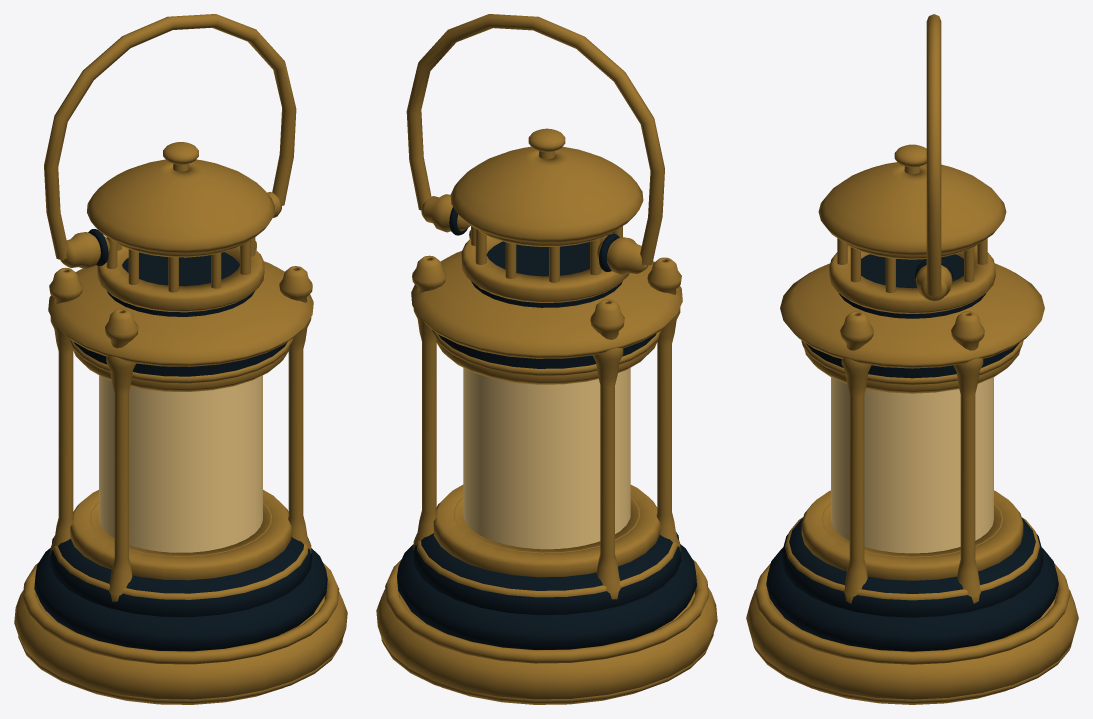
3 views of the same model, side by side, from view 1: azimuth 30°, elevation 25°; view 2: azimuth 150°, elevation 25°; view 3: azimuth 270°, elevation 25° (orthographic). The views are drawn at different scales.
Visible parts, largest first — view 1: chapter-1; view 2: chapter-1; view 3: chapter-1.
Part boxes in pixels (x1,y1,x2,y2): chapter-1: (14, 14, 347, 704); chapter-1: (376, 14, 717, 704); chapter-1: (746, 14, 1078, 704).
Bounding box in the file's own units: 0.969 × 2 × 0.969.
